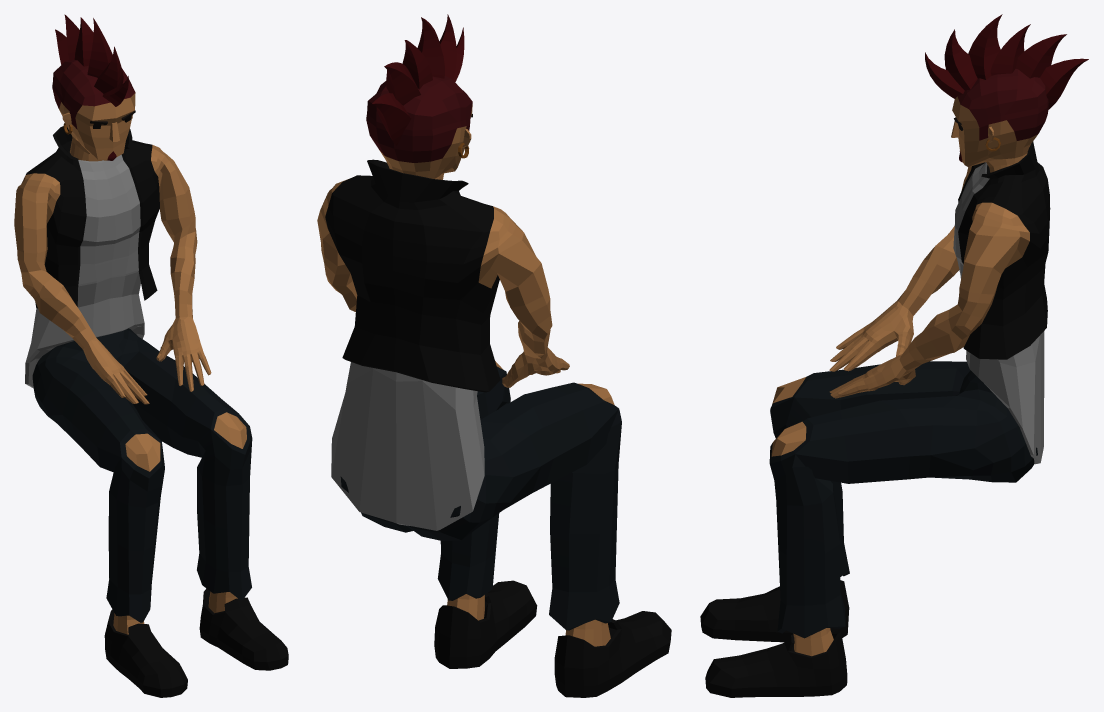
File: m_punker.obj
The picture shows the model from 3 angles, left to right: view 1: azimuth 30°, elevation 25°; view 2: azimuth 150°, elevation 25°; view 3: azimuth 270°, elevation 25°; orthographic projection. The views are drawn at different scales.
Parts seen in each view (by area): view 1: Punk_Body, Punk_Legs, Punk_Feet, Punk_Head; view 2: Punk_Body, Punk_Legs, Punk_Feet, Punk_Head; view 3: Punk_Legs, Punk_Body, Punk_Head, Punk_Feet.
Boxes of the visible parts, bbox=[...] form: Punk_Body: bbox=[14, 126, 211, 404]; Punk_Legs: bbox=[32, 328, 252, 622]; Punk_Feet: bbox=[104, 588, 288, 697]; Punk_Head: bbox=[52, 14, 135, 161]; Punk_Body: bbox=[317, 159, 569, 530]; Punk_Legs: bbox=[340, 361, 621, 630]; Punk_Feet: bbox=[434, 580, 671, 697]; Punk_Head: bbox=[366, 14, 472, 179]; Punk_Legs: bbox=[769, 361, 1037, 638]; Punk_Body: bbox=[829, 141, 1050, 464]; Punk_Head: bbox=[925, 14, 1088, 172]; Punk_Feet: bbox=[700, 580, 849, 697].
Bounding box in the file's own units: 0.4598 × 1.43 × 0.7795.
